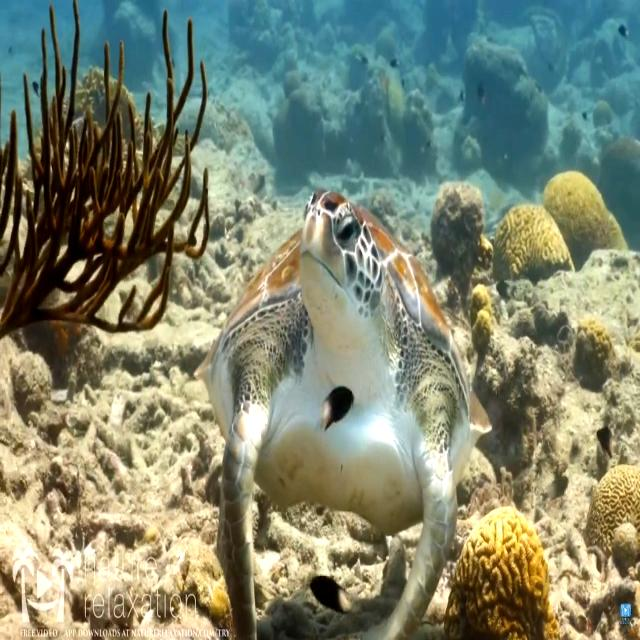Sea turtle: (204, 180, 494, 640)
